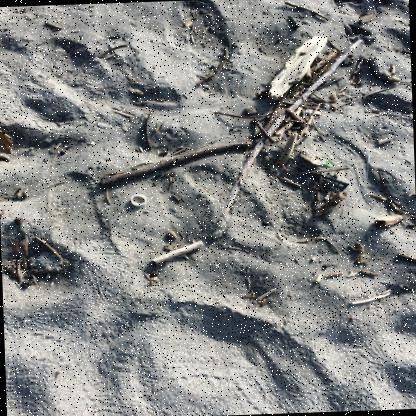Other plastic bottle: (322, 174, 349, 193), (322, 157, 333, 167), (367, 155, 370, 180)
Plastic bottle cap: (131, 194, 147, 206)
